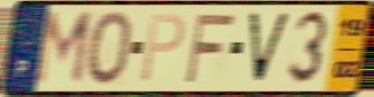3: (283, 9, 333, 88)
F: (183, 12, 239, 85)
M: (31, 8, 95, 89)
O: (85, 9, 135, 89)
P: (138, 12, 188, 85)
V: (245, 10, 293, 87)
